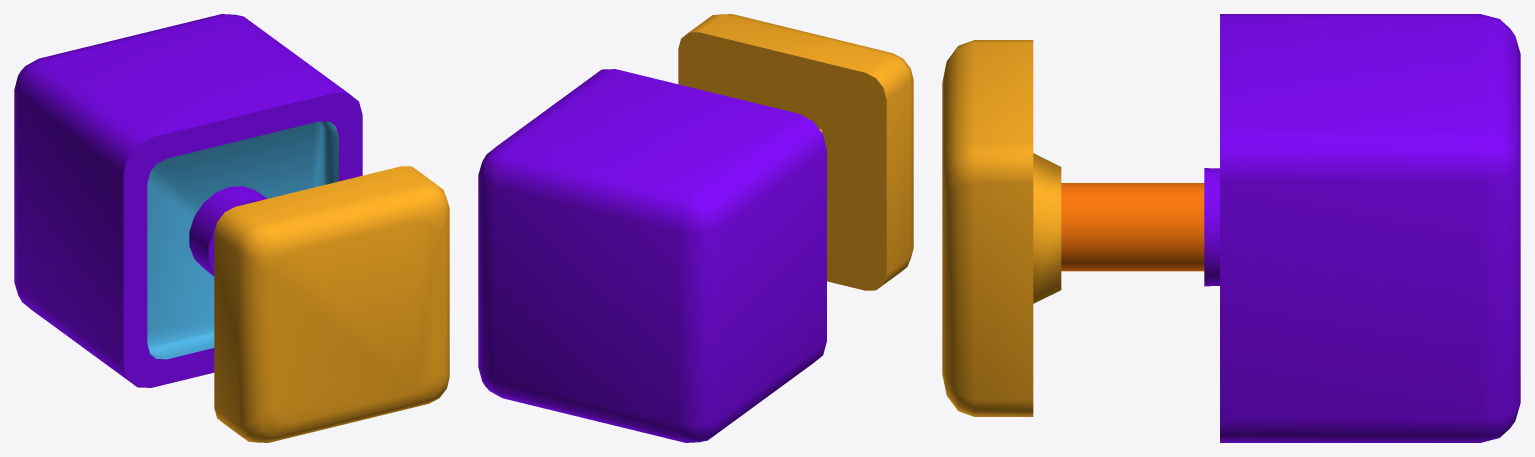
File: Obstacle_Pusher_01.fbx
The picture shows the model from 3 angles, left to right: view 1: azimuth 30°, elevation 25°; view 2: azimuth 150°, elevation 25°; view 3: azimuth 270°, elevation 25°; orthographic projection. The views are drawn at different scales.
Visible parts, largest first — view 1: Obstacle_Pusher_01, Obstacle_Pusher_01_Head; view 2: Obstacle_Pusher_01, Obstacle_Pusher_01_Head; view 3: Obstacle_Pusher_01, Obstacle_Pusher_01_Head.
Boxes of the visible parts, bbox=[...] form: Obstacle_Pusher_01: bbox=[14, 14, 362, 387]; Obstacle_Pusher_01_Head: bbox=[214, 166, 449, 442]; Obstacle_Pusher_01: bbox=[478, 69, 826, 442]; Obstacle_Pusher_01_Head: bbox=[678, 14, 913, 290]; Obstacle_Pusher_01: bbox=[1204, 14, 1520, 442]; Obstacle_Pusher_01_Head: bbox=[942, 40, 1204, 416].
Size of the model in its own units: 112 by 112 by 190.
